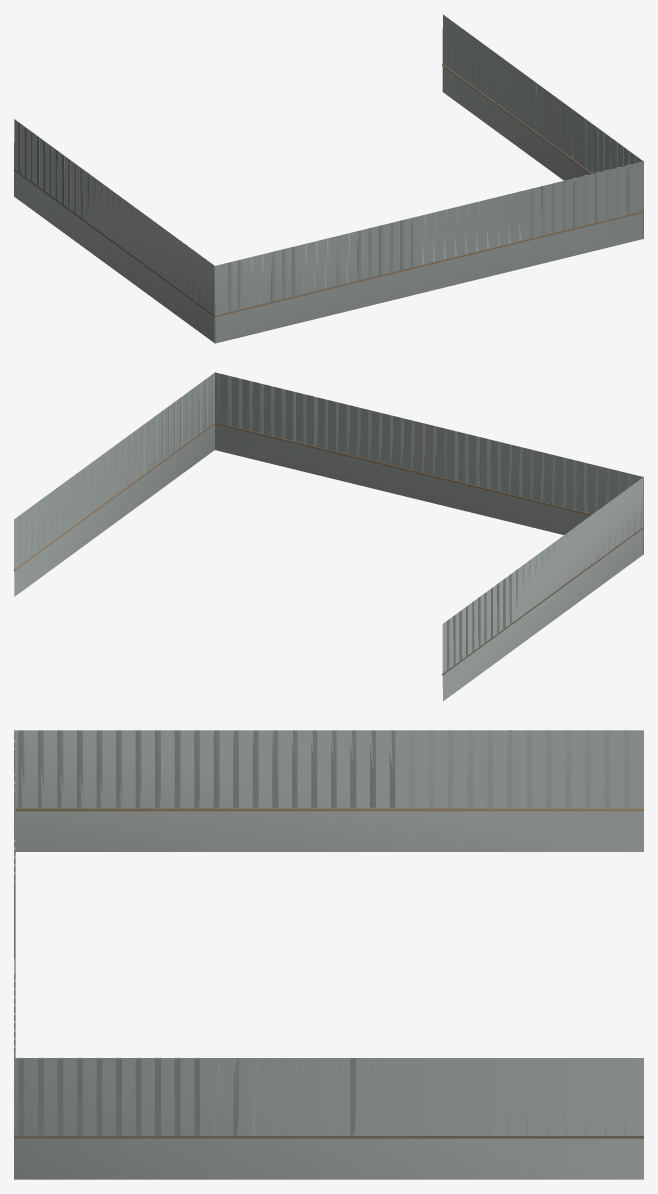
Rendered from home_wallpaper_s4__mint_low.glb.
3 views of the same model, one above another, from view 1: azimuth 30°, elevation 25°; view 2: azimuth 150°, elevation 25°; view 3: azimuth 270°, elevation 25° (orthographic). The views are drawn at different scales.
Size of the model in its own units: 15.9 by 2.75 by 12.9.
